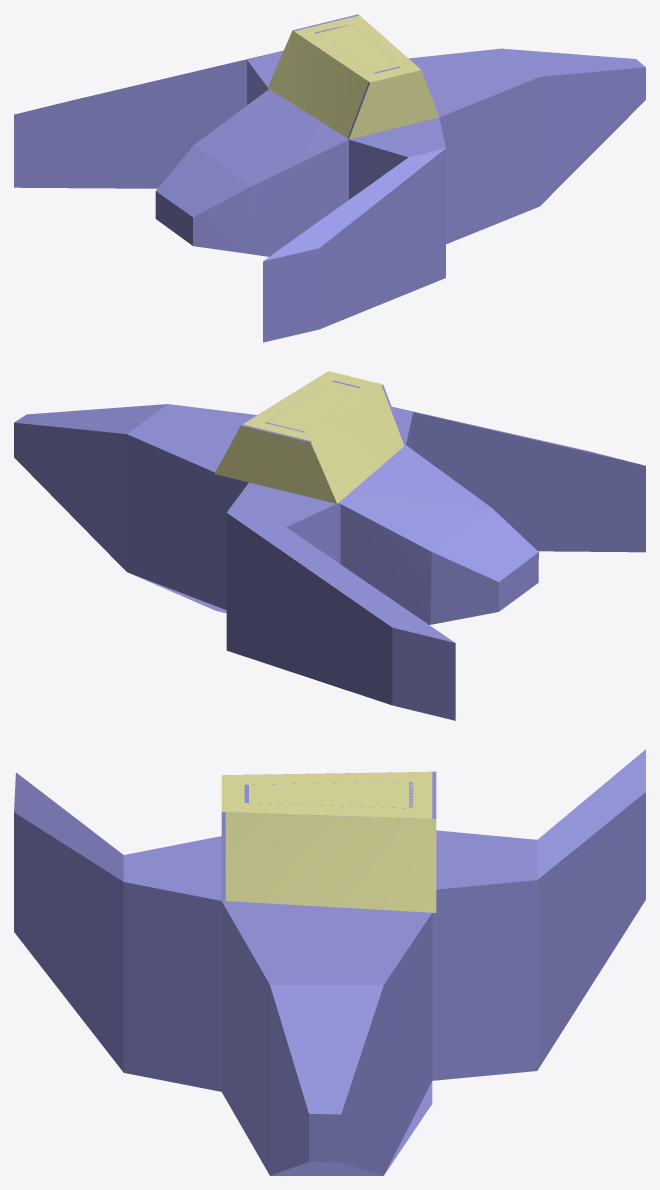
Rendered from SpaceShip.fbx.
The picture shows the model from 3 angles, top to bottom: view 1: azimuth 30°, elevation 25°; view 2: azimuth 150°, elevation 25°; view 3: azimuth 270°, elevation 25°; orthographic projection. The views are drawn at different scales.
Parts seen in each view (by area): view 1: pCube1; view 2: pCube1; view 3: pCube1.
Boxes of the visible parts, left/top/right/bottom form: pCube1: left=14, top=14, right=645, bottom=342; pCube1: left=14, top=371, right=645, bottom=720; pCube1: left=14, top=749, right=645, bottom=1175.
Size of the model in its own units: 4.19 by 1.4 by 3.
